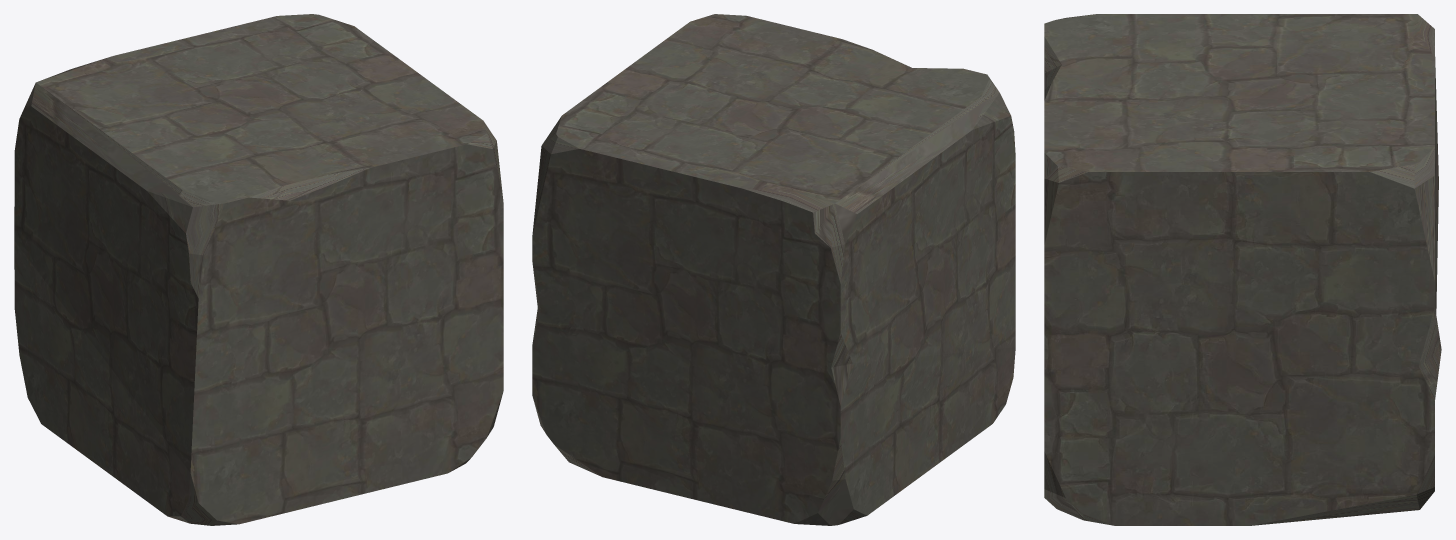
Rendered from BricksTpWall.fbx.
The picture shows the model from 3 angles, left to right: view 1: azimuth 30°, elevation 25°; view 2: azimuth 150°, elevation 25°; view 3: azimuth 270°, elevation 25°; orthographic projection. The views are drawn at different scales.
Parts seen in each view (by area): view 1: Cube.003; view 2: Cube.003; view 3: Cube.003.
Boxes of the visible parts, x1,y1,x2,y2 form: Cube.003: [14, 14, 503, 525]; Cube.003: [532, 14, 1015, 525]; Cube.003: [1044, 14, 1441, 525].
Bounding box in the file's own units: 205 × 202 × 203.
